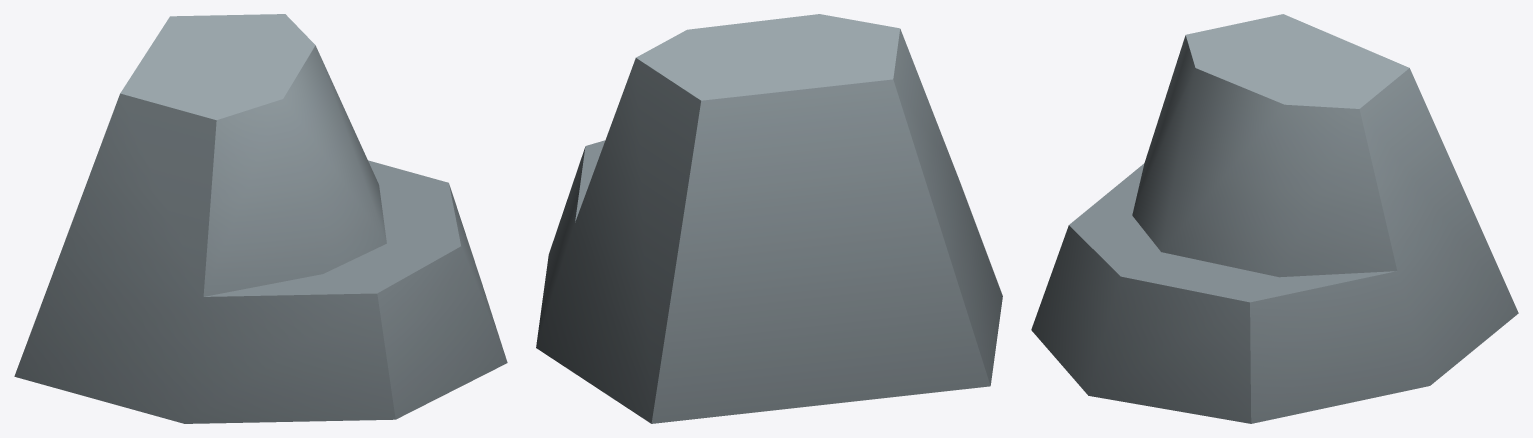
Rendered from rock.glb.
The picture shows the model from 3 angles, left to right: view 1: azimuth 30°, elevation 25°; view 2: azimuth 150°, elevation 25°; view 3: azimuth 270°, elevation 25°; orthographic projection. The views are drawn at different scales.
Parts seen in each view (by area): view 1: rock_single_C; view 2: rock_single_C; view 3: rock_single_C.
Part boxes in pixels (x1=…): rock_single_C: x1=14, y1=14, x2=507, y2=423; rock_single_C: x1=536, y1=14, x2=1002, y2=423; rock_single_C: x1=1031, y1=14, x2=1518, y2=423.
Size of the model in its own units: 1.94 by 1.1 by 1.94.
Materials: 1 (1 with a texture image).
